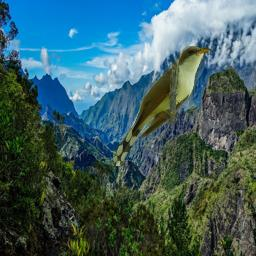Cuckoo: (113, 46, 211, 166)
